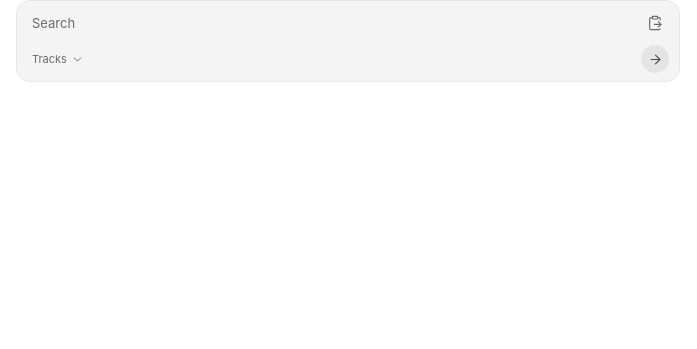
Test: DeezerPage album tracks › falls back to the title or id for the album heading
The width and height of the screenshot is (697, 349).
In the field named "Search query": (332, 23) left=32, top=9, right=633, bottom=37, type "x"
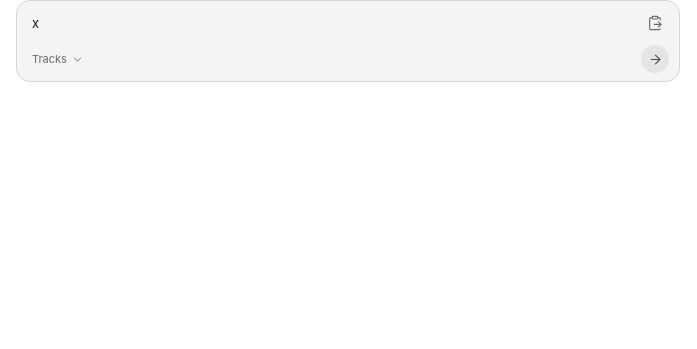
Click the button named "Search": (655, 59) left=641, top=45, right=669, bottom=73
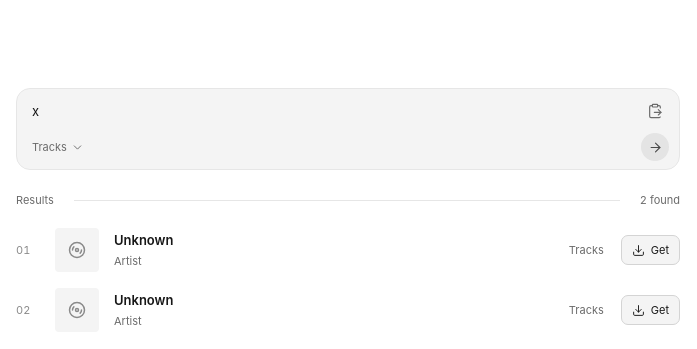
Click the button "Tracks" in the row of "01": (586, 250) left=558, top=235, right=615, bottom=265
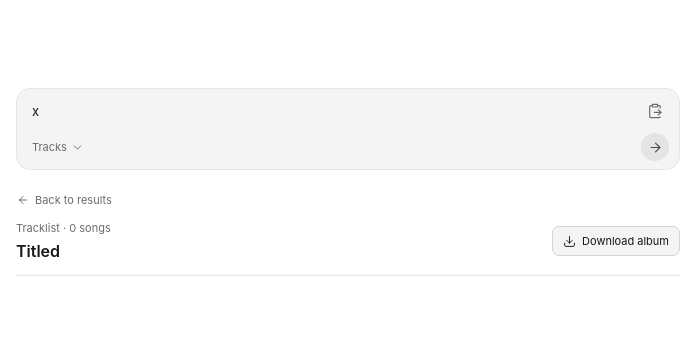
expect the heading "Titled" is shown: met, box left=16, top=240, right=60, bottom=260
Click the button "Back to results": (64, 200) left=16, top=191, right=113, bottom=209
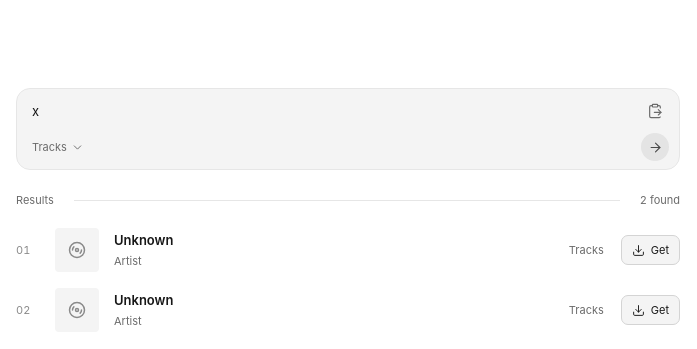
Click the button "Tracks" in the row of "02": (586, 310) left=558, top=295, right=615, bottom=325
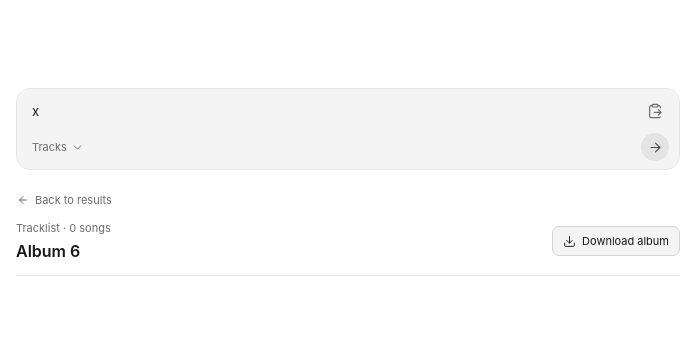
expect the heading "Album 6" is shown: met, box left=16, top=240, right=80, bottom=260
